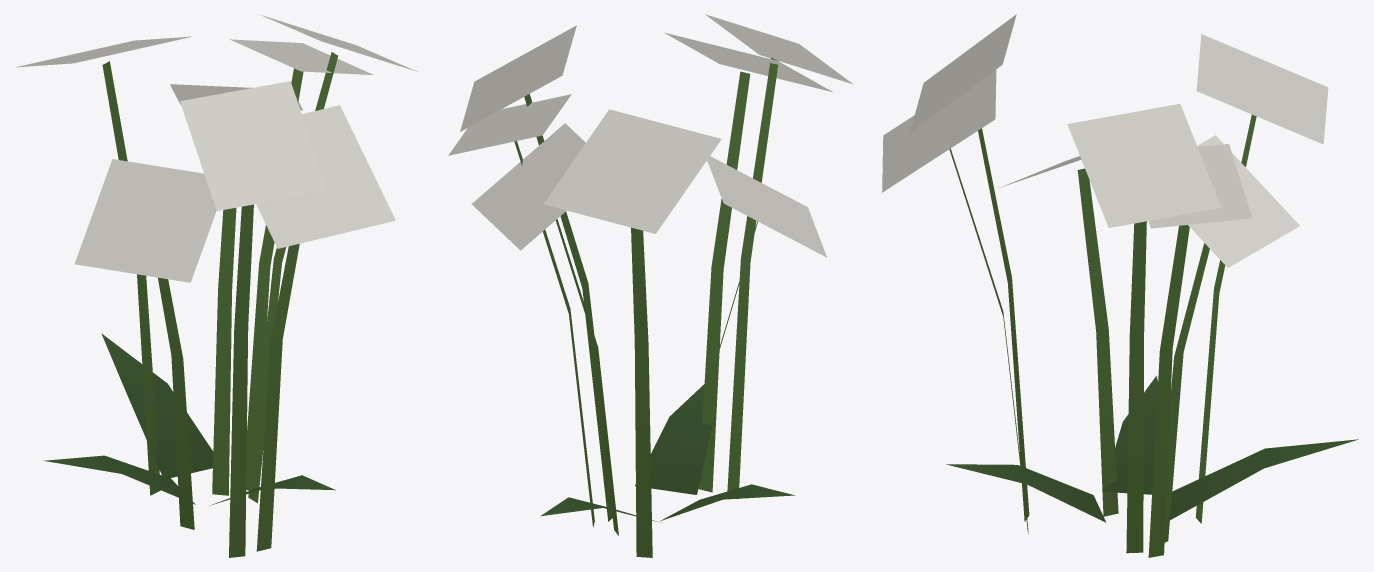
File: flower.alpine.white.glb
3 renders of one model, left to right at view 1: azimuth 30°, elevation 25°; view 2: azimuth 150°, elevation 25°; view 3: azimuth 270°, elevation 25°, orthographic. The views are drawn at different scales.
Parts seen in each view (by area): view 1: flower_alpine_white; view 2: flower_alpine_white; view 3: flower_alpine_white.
Part boxes in pixels (<box>): flower_alpine_white: <box>16,14,417,557</box>; flower_alpine_white: <box>448,14,852,557</box>; flower_alpine_white: <box>882,14,1358,557</box>.
Size of the model in its own units: 0.1452 by 0.1866 by 0.1703.
